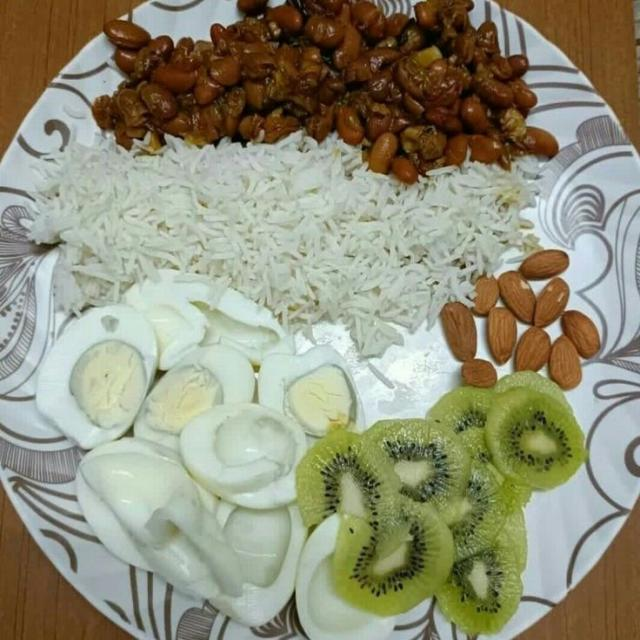eggs: (65, 290, 310, 606)
